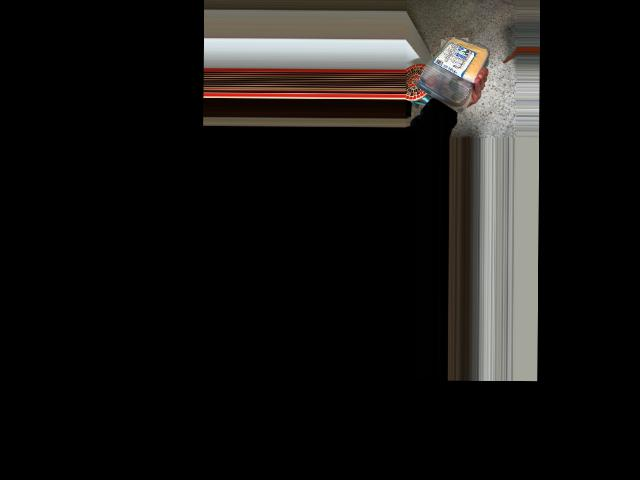cheese: (414, 29, 481, 104)
